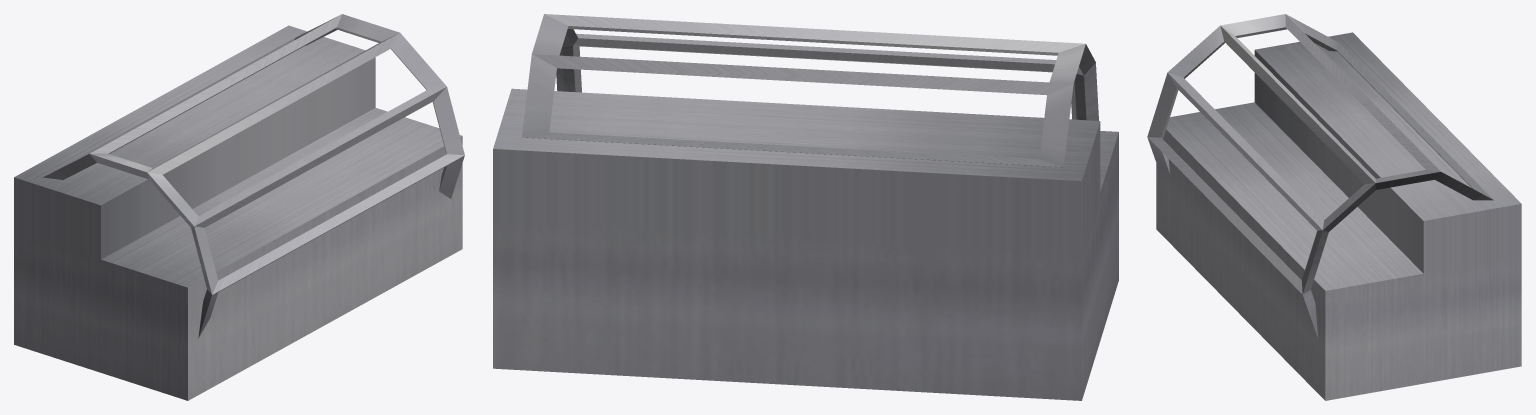
Rendered from FundacionFortabat-OLD.gltf.
The picture shows the model from 3 angles, left to right: view 1: azimuth 30°, elevation 25°; view 2: azimuth 150°, elevation 25°; view 3: azimuth 270°, elevation 25°; orthographic projection. The views are drawn at different scales.
Visible parts, largest first — view 1: FundacionFortabat; view 2: FundacionFortabat; view 3: FundacionFortabat.
Boxes of the visible parts, x1,y1,x2,y2 form: FundacionFortabat: (14, 14, 464, 400); FundacionFortabat: (493, 14, 1118, 400); FundacionFortabat: (1147, 14, 1521, 400).
Size of the model in its own units: 1.28 by 0.5818 by 0.9852.
1 material, 1 textured.
